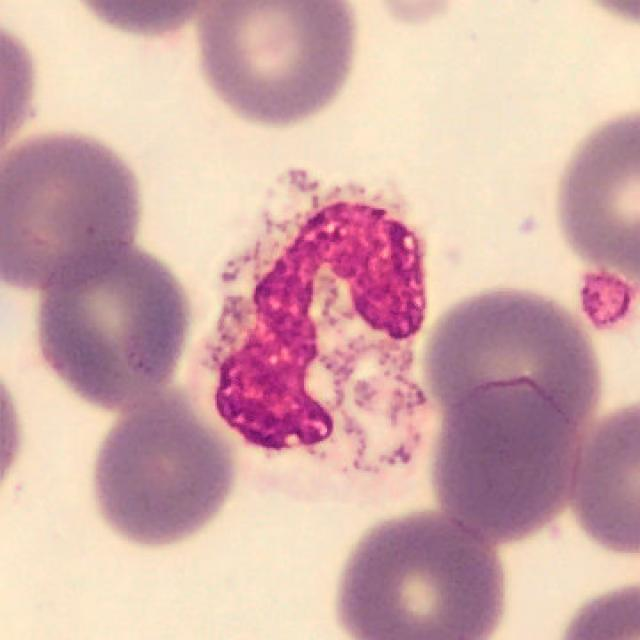Neutrofilo segmentado: (190, 167, 434, 508)
